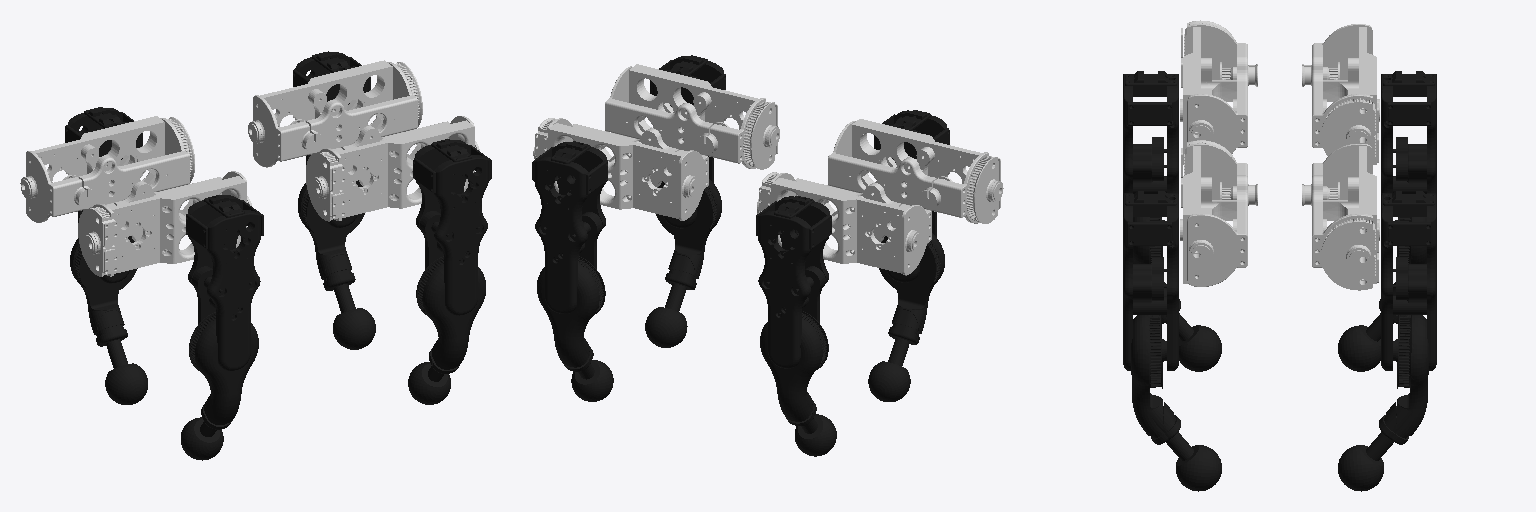
--- Render facts (derived) ---
3 views of the same robot in one strip: view 1: azimuth 30°, elevation 25°; view 2: azimuth 150°, elevation 25°; view 3: azimuth 270°, elevation 25° (orthographic).
Model opendog with 29 links and 28 joints (12 revolute, 16 fixed), rooted at base_link, posed all joints at 0.
Links seen in each view (by area): view 1: lf_hip_link, lh_hip_link, rf_upper_leg_link, rh_upper_leg_link, rh_hip_link, rf_hip_link, rf_lower_leg_link, rh_lower_leg_link, lf_lower_leg_link, lh_lower_leg_link, lh_upper_leg_link, lf_upper_leg_link; view 2: rf_hip_link, rh_hip_link, lh_upper_leg_link, lf_upper_leg_link, lf_hip_link, lh_hip_link, lf_lower_leg_link, lh_lower_leg_link, rh_lower_leg_link, rf_lower_leg_link, rh_upper_leg_link, rf_upper_leg_link; view 3: rf_hip_link, lf_hip_link, rh_hip_link, lh_hip_link, lf_upper_leg_link, rf_upper_leg_link, lf_lower_leg_link, rf_lower_leg_link, lh_upper_leg_link, rh_upper_leg_link, lh_lower_leg_link, rh_lower_leg_link.
Link boxes in pixels (box(x1,y1,x2,y2)): lf_hip_link: box(248, 60, 422, 167); lh_hip_link: box(20, 116, 194, 222); rf_upper_leg_link: box(413, 139, 491, 315); rh_upper_leg_link: box(186, 195, 263, 370); rh_hip_link: box(78, 171, 251, 276); rf_hip_link: box(306, 116, 479, 221); rf_lower_leg_link: box(408, 256, 485, 404); rh_lower_leg_link: box(181, 312, 258, 460); lf_lower_leg_link: box(298, 182, 375, 349); lh_lower_leg_link: box(70, 236, 147, 404); lh_upper_leg_link: box(65, 107, 142, 283); lf_upper_leg_link: box(293, 51, 370, 227); rf_hip_link: box(605, 64, 779, 169); rh_hip_link: box(828, 119, 1003, 223); lh_upper_leg_link: box(756, 196, 831, 368); lf_upper_leg_link: box(532, 141, 607, 313); lf_hip_link: box(533, 118, 708, 220); lh_hip_link: box(757, 172, 931, 275); lf_lower_leg_link: box(537, 256, 613, 401); lh_lower_leg_link: box(760, 311, 836, 456); rh_lower_leg_link: box(868, 233, 944, 401); rf_lower_leg_link: box(645, 179, 721, 347); rh_upper_leg_link: box(874, 110, 949, 282); rf_upper_leg_link: box(650, 55, 725, 228); rf_hip_link: box(1180, 140, 1257, 286); lf_hip_link: box(1302, 144, 1379, 290); rh_hip_link: box(1180, 20, 1257, 164); lh_hip_link: box(1302, 24, 1379, 164); lf_upper_leg_link: box(1381, 191, 1436, 370); rf_upper_leg_link: box(1123, 191, 1178, 370); lf_lower_leg_link: box(1338, 315, 1428, 491); rf_lower_leg_link: box(1131, 315, 1221, 491); lh_upper_leg_link: box(1381, 71, 1436, 193); rh_upper_leg_link: box(1123, 71, 1178, 193); lh_lower_leg_link: box(1338, 217, 1426, 371); rh_lower_leg_link: box(1133, 217, 1221, 371).
Bounding box of the posed robot: 0.741 × 0.47 × 0.4895 m (x, y, z).
Meshes: 7 distinct files referenced, 12 mesh visuals loaded (4 binary STL); not drawn: 3 (reference not matched to a file when rendering).

The robot description file, URDF, robot "opendog":
<?xml version="1.0" encoding="utf-8"?>
<!-- =================================================================================== -->
<!-- |    This document was autogenerated by xacro from opendog.urdf.xacro             | -->
<!-- |    EDITING THIS FILE BY HAND IS NOT RECOMMENDED                                 | -->
<!-- =================================================================================== -->
<robot name="opendog">
  <material name="black">
    <color rgba="0.15 0.15 0.15 1.0"/>
  </material>
  <material name="white">
    <color rgba="0.85 0.85 0.85 1"/>
  </material>
  <material name="yellow">
    <color rgba="0.96 0.89 0.10 1"/>
  </material>
  <link name="base_link">
    <collision>
      <origin rpy="0 0 1.5708" xyz="0.25 0.185 0.002"/>
      <geometry>
        <mesh filename="package://opendog_description/meshes/base.stl" scale="0.001 0.001 0.001"/>
      </geometry>
    </collision>
    <visual>
      <origin rpy="0 0 1.5708" xyz="0.25 0.185 0.002"/>
      <geometry>
        <mesh filename="package://opendog_description/meshes/base.stl" scale="0.001 0.001 0.001"/>
      </geometry>
      <material name="black"/>
    </visual>
  </link>
  <link name="base_inertia">
    <inertial>
      <origin xyz="-0.1 0 0"/>
      <mass value="2.0"/>
      <inertia ixx="0.0220833333333" ixy="0.0" ixz="0.0" iyy="0.114733333333" iyz="0.0" izz="0.120683333333"/>
    </inertial>
  </link>
  <joint name="base_link_to_base_inertia" type="fixed">
    <parent link="base_link"/>
    <child link="base_inertia"/>
    <origin rpy="0 0 0" xyz="0.05 0 0"/>
  </joint>
  <gazebo reference="base_link">
    <material>Gazebo/FlatBlack</material>
  </gazebo>
  <joint name="hokuyo_joint" type="fixed">
    <origin rpy="0 0 0" xyz="0.0 0.0 0.15"/>
    <parent link="base_link"/>
    <child link="hokuyo_frame"/>
  </joint>
  <link name="hokuyo_frame">
    <inertial>
      <mass value="0.270"/>
      <origin rpy="0 0 0" xyz="0 0 0"/>
      <inertia ixx="2.632e-4" ixy="0" ixz="0" iyy="2.632e-4" iyz="0" izz="1.62e-4"/>
    </inertial>
    <visual>
      <origin rpy="0 0 0" xyz="0 0 0"/>
      <geometry>
        <mesh filename="package://hector_sensors_description/meshes/hokuyo_utm30lx/hokuyo_utm_30lx.dae"/>
      </geometry>
    </visual>
    <collision>
      <origin rpy="0 0 0" xyz="0 0 -0.0115"/>
      <geometry>
        <box size="0.058 0.058 0.087"/>
        <!--<mesh filename="package://hector_sensors_description/meshes/hokuyo_utm30lx/hokuyo_utm_30lx.stl"/>-->
      </geometry>
    </collision>
  </link>
  <gazebo reference="hokuyo_frame">
    <sensor name="hokuyo" type="ray">
      <always_on>true</always_on>
      <update_rate>30</update_rate>
      <pose>0 0 0 0 0 0</pose>
      <visualize>false</visualize>
      <ray>
        <scan>
          <horizontal>
            <samples>1040</samples>
            <resolution>1</resolution>
            <min_angle>2.26892802759</min_angle>
            <max_angle>-2.26892802759</max_angle>
          </horizontal>
        </scan>
        <range>
          <min>0.2</min>
          <max>30.0</max>
          <resolution>0.01</resolution>
        </range>
        <noise>
          <type>gaussian</type>
          <mean>0.0</mean>
          <stddev>0.004</stddev>
        </noise>
      </ray>
      <plugin filename="libgazebo_ros_laser.so" name="gazebo_ros_hokuyo_controller">
        <topicName>scan</topicName>
        <frameName>hokuyo_frame</frameName>
      </plugin>
    </sensor>
  </gazebo>
  <gazebo reference="hokuyo_frame">
    <material>Gazebo/FlatBlack</material>
  </gazebo>
  <joint name="camera_joint" type="fixed">
    <origin rpy="0 0 0" xyz="0.4 0.0 0.12"/>
    <parent link="base_link"/>
    <child link="camera_link"/>
  </joint>
  <link name="camera_link">
    <inertial>
      <mass value="0.200"/>
      <origin rpy="0 0 0" xyz="0 0 0"/>
      <inertia ixx="5.8083e-4" ixy="0" ixz="0" iyy="3.0833e-5" iyz="0" izz="5.9083e-4"/>
    </inertial>
    <visual>
      <origin rpy="0 0 0" xyz="0 0 0"/>
      <geometry>
        <mesh filename="package://hector_sensors_description/meshes/asus_camera/asus_camera_simple.dae"/>
      </geometry>
    </visual>
    <!--        
       <collision>
          <origin xyz="0 0 0" rpy="0 0 0" />
          <geometry>
            <box size="0.035 0.185 0.025"/>
          </geometry>
        </collision>
        -->
    <collision>
      <origin rpy="0 0 0" xyz="0 0 0"/>
      <geometry>
        <mesh filename="package://hector_sensors_description/meshes/asus_camera/asus_camera_simple.dae"/>
      </geometry>
    </collision>
  </link>
  <joint name="camera_depth_joint" type="fixed">
    <origin rpy="0 0 0" xyz="0.0 0.049 0.0"/>
    <parent link="camera_link"/>
    <child link="camera_depth_frame"/>
  </joint>
  <link name="camera_depth_frame"/>
  <joint name="camera_depth_optical_joint" type="fixed">
    <origin rpy="-1.57079632679 0.0 -1.57079632679" xyz="0 0 0"/>
    <parent link="camera_depth_frame"/>
    <child link="camera_depth_optical_frame"/>
  </joint>
  <link name="camera_depth_optical_frame"/>
  <joint name="camera_rgb_joint" type="fixed">
    <origin rpy="0 0 0" xyz="0.0 0.022 0.0"/>
    <parent link="camera_link"/>
    <child link="camera_rgb_frame"/>
  </joint>
  <link name="camera_rgb_frame"/>
  <joint name="camera_rgb_optical_joint" type="fixed">
    <origin rpy="-1.57079632679 0.0 -1.57079632679" xyz="0 0 0"/>
    <parent link="camera_rgb_frame"/>
    <child link="camera_rgb_optical_frame"/>
  </joint>
  <link name="camera_rgb_optical_frame"/>
  <!-- ASUS Xtion PRO camera for simulation -->
  <gazebo reference="camera_depth_frame">
    <sensor name="camera" type="depth">
      <update_rate>20</update_rate>
      <camera>
        <horizontal_fov>1.09606677025</horizontal_fov>
        <image>
          <format>R8G8B8</format>
          <width>640</width>
          <height>480</height>
        </image>
        <clip>
          <near>0.5</near>
          <far>9</far>
        </clip>
      </camera>
      <plugin filename="libgazebo_ros_openni_kinect.so" name="camera_camera_controller">
        <imageTopicName>camera/rgb/image_raw</imageTopicName>
        <cameraInfoTopicName>camera/rgb/camera_info</cameraInfoTopicName>
        <depthImageTopicName>camera/depth/image_raw</depthImageTopicName>
        <depthImageCameraInfoTopicName>camera/depth/camera_info</depthImageCameraInfoTopicName>
        <pointCloudTopicName>camera/depth/points</pointCloudTopicName>
        <frameName>camera_depth_optical_frame</frameName>
      </plugin>
    </sensor>
  </gazebo>
  <gazebo>
    <plugin filename="libhector_gazebo_ros_imu.so" name="imu_controller">
      <updateRate>50.0</updateRate>
      <bodyName>imu_link</bodyName>
      <topicName>imu/data</topicName>
      <accelDrift>0.005 0.005 0.005</accelDrift>
      <accelGaussianNoise>0.005 0.005 0.005</accelGaussianNoise>
      <rateDrift>0.005 0.005 0.005 </rateDrift>
      <rateGaussianNoise>0.005 0.005 0.005 </rateGaussianNoise>
      <headingDrift>0.005</headingDrift>
      <headingGaussianNoise>0.005</headingGaussianNoise>
    </plugin>
  </gazebo>
  <link name="imu_link">
    <inertial>
      <mass value="0.001"/>
      <origin rpy="0 0 0" xyz="0 0 0"/>
      <inertia ixx="1e-09" ixy="0.0" ixz="0.0" iyy="1e-09" iyz="0.0" izz="1e-09"/>
    </inertial>
  </link>
  <joint name="imu_joint" type="fixed">
    <parent link="base_link"/>
    <child link="imu_link"/>
  </joint>
  <link name="lf_hip_debug_link"/>
  <link name="lf_hip_link">
    <inertial>
      <mass value="0.25"/>
      <inertia ixx="0.000485416666667" ixy="0.0" ixz="0.0" iyy="0.000613416666667" iyz="0.0" izz="0.000394666666667"/>
    </inertial>
    <collision>
      <origin rpy="0 0 1.5708" xyz="-0.165 0.054 0.001"/>
      <geometry>
        <mesh filename="package://opendog_description/meshes/hip.stl" scale="0.001 0.001 0.001"/>
      </geometry>
    </collision>
    <visual>
      <origin rpy="0 0 1.5708" xyz="-0.165 0.054 0.001"/>
      <geometry>
        <mesh filename="package://opendog_description/meshes/hip.stl" scale="0.001 0.001 0.001"/>
      </geometry>
      <material name="white"/>
    </visual>
  </link>
  <gazebo reference="lf_hip_link">
    <material>Gazebo/White</material>
  </gazebo>
  <link name="lf_upper_leg_link">
    <inertial>
      <origin xyz="0 0 -0.1"/>
      <mass value="0.125"/>
      <inertia ixx="0.00100416666667" ixy="0.0" ixz="0.0" iyy="0.00100416666667" iyz="0.0" izz="0.000133333333333"/>
    </inertial>
    <collision>
      <origin rpy="0 0 1.5708" xyz="-0.165 -0.01 0"/>
      <geometry>
        <mesh filename="package://opendog_description/meshes/upper_leg.stl" scale="0.001 0.001 0.001"/>
      </geometry>
    </collision>
    <visual>
      <origin rpy="0 0 1.5708" xyz="-0.165 -0.01 0"/>
      <geometry>
        <mesh filename="package://opendog_description/meshes/upper_leg.stl" scale="0.001 0.001 0.001"/>
      </geometry>
      <material name="black"/>
    </visual>
  </link>
  <gazebo reference="lf_upper_leg_link">
    <material>Gazebo/FlatBlack</material>
  </gazebo>
  <link name="lf_lower_leg_link">
    <inertial>
      <origin xyz="0 0 -0.08"/>
      <mass value="0.125"/>
      <inertia ixx="0.000942541666667" ixy="0.0" ixz="0.0" iyy="0.00095334375" iyz="0.0" izz="2.08854166667e-05"/>
    </inertial>
    <collision>
      <origin rpy="0 0.02 1.5708" xyz="-0.165 0 0.201"/>
      <geometry>
        <mesh filename="package://opendog_description/meshes/lower_leg.stl" scale="0.001 0.001 0.001"/>
      </geometry>
    </collision>
    <visual>
      <origin rpy="0 0.02 1.5708" xyz="-0.165 0 0.201"/>
      <geometry>
        <mesh filename="package://opendog_description/meshes/lower_leg.stl" scale="0.001 0.001 0.001"/>
      </geometry>
      <material name="black"/>
    </visual>
  </link>
  <gazebo reference="lf_lower_leg_link">
    <kp>1000000.0</kp>
    <kd>1.0</kd>
    <mu1>0.8</mu1>
    <mu2>0.8</mu2>
    <maxVel>0.0</maxVel>
    <minDepth>0.001</minDepth>
    <material>Gazebo/FlatBlack</material>
  </gazebo>
  <link name="lf_foot_link"/>
  <joint name="lf_debug_joint" type="fixed">
    <parent link="base_link"/>
    <child link="lf_hip_debug_link"/>
    <origin rpy="0 0 0" xyz="0.265 0.125 0"/>
  </joint>
  <joint name="lf_hip_joint" type="revolute">
    <axis xyz="1 0 0"/>
    <limit effort="25" lower="-3.14159265359" upper="3.14159265359" velocity="3.0"/>
    <parent link="base_link"/>
    <child link="lf_hip_link"/>
    <origin rpy="0 0 0" xyz="0.265 0.125 0"/>
  </joint>
  <joint name="lf_upper_leg_joint" type="revolute">
    <axis xyz="0 1 0"/>
    <limit effort="25" lower="-3.14159265359" upper="3.14159265359" velocity="3.0"/>
    <parent link="lf_hip_link"/>
    <child link="lf_upper_leg_link"/>
    <origin rpy="0 0 0" xyz="0 0.07 0"/>
  </joint>
  <joint name="lf_lower_leg_joint" type="revolute">
    <axis xyz="0 1 0"/>
    <limit effort="25" lower="-3.14159265359" upper="3.14159265359" velocity="3.0"/>
    <parent link="lf_upper_leg_link"/>
    <child link="lf_lower_leg_link"/>
    <origin rpy="0 0 0" xyz="0 0 -0.2"/>
  </joint>
  <joint name="lf_foot_joint" type="fixed">
    <parent link="lf_lower_leg_link"/>
    <child link="lf_foot_link"/>
    <!-- <origin xyz="0.00325 0 -${lower_leg_to_foot_distance}" rpy="0 0 0" /> -->
    <origin rpy="0 0 0" xyz="0 -0.07 -0.23"/>
  </joint>
  <transmission name="lf_hip_joint_trans">
    <type>transmission_interface/SimpleTransmission</type>
    <joint name="lf_hip_joint">
      <hardwareInterface>hardware_interface/EffortJointInterface</hardwareInterface>
    </joint>
    <actuator name="lf_hip_joint_motor">
      <hardwareInterface>hardware_interface/EffortJointInterface</hardwareInterface>
      <mechanicalReduction>1</mechanicalReduction>
    </actuator>
  </transmission>
  <transmission name="lf_upper_leg_joint_trans">
    <type>transmission_interface/SimpleTransmission</type>
    <joint name="lf_upper_leg_joint">
      <hardwareInterface>hardware_interface/EffortJointInterface</hardwareInterface>
    </joint>
    <actuator name="lf_upper_leg_joint_motor">
      <hardwareInterface>hardware_interface/EffortJointInterface</hardwareInterface>
      <mechanicalReduction>1</mechanicalReduction>
    </actuator>
  </transmission>
  <transmission name="lf_lower_leg_joint_trans">
    <type>transmission_interface/SimpleTransmission</type>
    <joint name="lf_lower_leg_joint">
      <hardwareInterface>hardware_interface/EffortJointInterface</hardwareInterface>
    </joint>
    <actuator name="lf_lower_joint_motor">
      <hardwareInterface>hardware_interface/EffortJointInterface</hardwareInterface>
      <mechanicalReduction>1</mechanicalReduction>
    </actuator>
  </transmission>
  <link name="lh_hip_debug_link"/>
  <link name="lh_hip_link">
    <inertial>
      <mass value="0.25"/>
      <inertia ixx="0.000485416666667" ixy="0.0" ixz="0.0" iyy="0.000613416666667" iyz="0.0" izz="0.000394666666667"/>
    </inertial>
    <collision>
      <origin rpy="0 0 1.5708" xyz="-0.165 0.054 0.001"/>
      <geometry>
        <mesh filename="package://opendog_description/meshes/hip.stl" scale="0.001 0.001 0.001"/>
      </geometry>
    </collision>
    <visual>
      <origin rpy="0 0 1.5708" xyz="-0.165 0.054 0.001"/>
      <geometry>
        <mesh filename="package://opendog_description/meshes/hip.stl" scale="0.001 0.001 0.001"/>
      </geometry>
      <material name="white"/>
    </visual>
  </link>
  <gazebo reference="lh_hip_link">
    <material>Gazebo/White</material>
  </gazebo>
  <link name="lh_upper_leg_link">
    <inertial>
      <origin xyz="0 0 -0.1"/>
      <mass value="0.125"/>
      <inertia ixx="0.00100416666667" ixy="0.0" ixz="0.0" iyy="0.00100416666667" iyz="0.0" izz="0.000133333333333"/>
    </inertial>
    <collision>
      <origin rpy="0 0 1.5708" xyz="-0.165 -0.01 0"/>
      <geometry>
        <mesh filename="package://opendog_description/meshes/upper_leg.stl" scale="0.001 0.001 0.001"/>
      </geometry>
    </collision>
    <visual>
      <origin rpy="0 0 1.5708" xyz="-0.165 -0.01 0"/>
      <geometry>
        <mesh filename="package://opendog_description/meshes/upper_leg.stl" scale="0.001 0.001 0.001"/>
      </geometry>
      <material name="black"/>
    </visual>
  </link>
  <gazebo reference="lh_upper_leg_link">
    <material>Gazebo/FlatBlack</material>
  </gazebo>
  <link name="lh_lower_leg_link">
    <inertial>
      <origin xyz="0 0 -0.08"/>
      <mass value="0.125"/>
      <inertia ixx="0.000942541666667" ixy="0.0" ixz="0.0" iyy="0.00095334375" iyz="0.0" izz="2.08854166667e-05"/>
    </inertial>
    <collision>
      <origin rpy="0 0.02 1.5708" xyz="-0.165 0 0.201"/>
      <geometry>
        <mesh filename="package://opendog_description/meshes/lower_leg.stl" scale="0.001 0.001 0.001"/>
      </geometry>
    </collision>
    <visual>
      <origin rpy="0 0.02 1.5708" xyz="-0.165 0 0.201"/>
      <geometry>
        <mesh filename="package://opendog_description/meshes/lower_leg.stl" scale="0.001 0.001 0.001"/>
      </geometry>
      <material name="black"/>
    </visual>
  </link>
  <gazebo reference="lh_lower_leg_link">
    <kp>1000000.0</kp>
    <kd>1.0</kd>
    <mu1>0.8</mu1>
    <mu2>0.8</mu2>
    <maxVel>0.0</maxVel>
    <minDepth>0.001</minDepth>
    <material>Gazebo/FlatBlack</material>
  </gazebo>
  <link name="lh_foot_link"/>
  <joint name="lh_debug_joint" type="fixed">
    <parent link="base_link"/>
    <child link="lh_hip_debug_link"/>
    <origin rpy="0 0 0" xyz="-0.16 0.125 0"/>
  </joint>
  <joint name="lh_hip_joint" type="revolute">
    <axis xyz="1 0 0"/>
    <limit effort="25" lower="-3.14159265359" upper="3.14159265359" velocity="3.0"/>
    <parent link="base_link"/>
    <child link="lh_hip_link"/>
    <origin rpy="0 0 0" xyz="-0.16 0.125 0"/>
  </joint>
  <joint name="lh_upper_leg_joint" type="revolute">
    <axis xyz="0 1 0"/>
    <limit effort="25" lower="-3.14159265359" upper="3.14159265359" velocity="3.0"/>
    <parent link="lh_hip_link"/>
    <child link="lh_upper_leg_link"/>
    <origin rpy="0 0 0" xyz="0 0.07 0"/>
  </joint>
  <joint name="lh_lower_leg_joint" type="revolute">
    <axis xyz="0 1 0"/>
    <limit effort="25" lower="-3.14159265359" upper="3.14159265359" velocity="3.0"/>
    <parent link="lh_upper_leg_link"/>
    <child link="lh_lower_leg_link"/>
    <origin rpy="0 0 0" xyz="0 0 -0.2"/>
  </joint>
  <joint name="lh_foot_joint" type="fixed">
    <parent link="lh_lower_leg_link"/>
    <child link="lh_foot_link"/>
    <!-- <origin xyz="0.00325 0 -${lower_leg_to_foot_distance}" rpy="0 0 0" /> -->
    <origin rpy="0 0 0" xyz="0 -0.07 -0.23"/>
  </joint>
  <transmission name="lh_hip_joint_trans">
    <type>transmission_interface/SimpleTransmission</type>
    <joint name="lh_hip_joint">
      <hardwareInterface>hardware_interface/EffortJointInterface</hardwareInterface>
    </joint>
    <actuator name="lh_hip_joint_motor">
      <hardwareInterface>hardware_interface/EffortJointInterface</hardwareInterface>
      <mechanicalReduction>1</mechanicalReduction>
    </actuator>
  </transmission>
  <transmission name="lh_upper_leg_joint_trans">
    <type>transmission_interface/SimpleTransmission</type>
    <joint name="lh_upper_leg_joint">
      <hardwareInterface>hardware_interface/EffortJointInterface</hardwareInterface>
    </joint>
    <actuator name="lh_upper_leg_joint_motor">
      <hardwareInterface>hardware_interface/EffortJointInterface</hardwareInterface>
      <mechanicalReduction>1</mechanicalReduction>
    </actuator>
  </transmission>
  <transmission name="lh_lower_leg_joint_trans">
    <type>transmission_interface/SimpleTransmission</type>
    <joint name="lh_lower_leg_joint">
      <hardwareInterface>hardware_interface/EffortJointInterface</hardwareInterface>
    </joint>
    <actuator name="lh_lower_joint_motor">
      <hardwareInterface>hardware_interface/EffortJointInterface</hardwareInterface>
      <mechanicalReduction>1</mechanicalReduction>
    </actuator>
  </transmission>
  <link name="rf_hip_debug_link"/>
  <link name="rf_hip_link">
    <inertial>
      <mass value="0.25"/>
      <inertia ixx="0.000485416666667" ixy="0.0" ixz="0.0" iyy="0.000613416666667" iyz="0.0" izz="0.000394666666667"/>
    </inertial>
    <collision>
      <origin rpy="-3.1416 0 -1.5708" xyz="-0.165 -0.054 0.001"/>
      <geometry>
        <mesh filename="package://opendog_description/meshes/hip_mirror.stl" scale="0.001 0.001 0.001"/>
      </geometry>
    </collision>
    <visual>
      <origin rpy="-3.1416 0 -1.5708" xyz="-0.165 -0.054 0.001"/>
      <geometry>
        <mesh filename="package://opendog_description/meshes/hip_mirror.stl" scale="0.001 0.001 0.001"/>
      </geometry>
      <material name="white"/>
    </visual>
  </link>
  <gazebo reference="rf_hip_link">
    <material>Gazebo/White</material>
  </gazebo>
  <link name="rf_upper_leg_link">
    <inertial>
      <origin xyz="0 0 -0.1"/>
      <mass value="0.125"/>
      <inertia ixx="0.00100416666667" ixy="0.0" ixz="0.0" iyy="0.00100416666667" iyz="0.0" izz="0.000133333333333"/>
    </inertial>
    <collision>
      <origin rpy="0 0 -1.5708" xyz="0.165 0.01 0"/>
      <geometry>
        <mesh filename="package://opendog_description/meshes/upper_leg.stl" scale="0.001 0.001 0.001"/>
      </geometry>
    </collision>
    <visual>
      <origin rpy="0 0 -1.5708" xyz="0.165 0.01 0"/>
      <geometry>
        <mesh filename="package://opendog_description/meshes/upper_leg.stl" scale="0.001 0.001 0.001"/>
      </geometry>
      <material name="black"/>
    </visual>
  </link>
  <gazebo reference="rf_upper_leg_link">
    <material>Gazebo/FlatBlack</material>
  </gazebo>
  <link name="rf_lower_leg_link">
    <inertial>
      <origin xyz="0 0 -0.08"/>
      <mass value="0.125"/>
      <inertia ixx="0.000942541666667" ixy="0.0" ixz="0.0" iyy="0.00095334375" iyz="0.0" izz="2.08854166667e-05"/>
    </inertial>
    <collision>
      <origin rpy="0 0.02 -1.5708" xyz="0.165 0 0.201"/>
      <geometry>
        <mesh filename="package://opendog_description/meshes/lower_leg.stl" scale="0.001 0.001 0.001"/>
      </geometry>
    </collision>
    <visual>
      <origin rpy="0 0.02 -1.5708" xyz="0.165 0 0.201"/>
      <geometry>
        <mesh filename="package://opendog_description/meshes/lower_leg.stl" scale="0.001 0.001 0.001"/>
      </geometry>
      <material name="black"/>
    </visual>
  </link>
  <gazebo reference="rf_lower_leg_link">
    <kp>1000000.0</kp>
    <kd>1.0</kd>
    <mu1>0.8</mu1>
    <mu2>0.8</mu2>
    <maxVel>0.0</maxVel>
    <minDepth>0.001</minDepth>
    <material>Gazebo/FlatBlack</material>
  </gazebo>
  <link name="rf_foot_link"/>
  <joint name="rf_debug_joint" type="fixed">
    <parent link="base_link"/>
    <child link="rf_hip_debug_link"/>
    <origin rpy="0 0 0" xyz="0.265 -0.125 0"/>
  </joint>
  <joint name="rf_hip_joint" type="revolute">
    <axis xyz="1 0 0"/>
    <limit effort="25" lower="-3.14159265359" upper="3.14159265359" velocity="3.0"/>
    <parent link="base_link"/>
    <child link="rf_hip_link"/>
    <origin rpy="0 0 0" xyz="0.265 -0.125 0"/>
  </joint>
  <joint name="rf_upper_leg_joint" type="revolute">
    <axis xyz="0 1 0"/>
    <limit effort="25" lower="-3.14159265359" upper="3.14159265359" velocity="3.0"/>
    <parent link="rf_hip_link"/>
    <child link="rf_upper_leg_link"/>
    <origin rpy="0 0 0" xyz="0 -0.07 0"/>
  </joint>
  <joint name="rf_lower_leg_joint" type="revolute">
    <axis xyz="0 1 0"/>
    <limit effort="25" lower="-3.14159265359" upper="3.14159265359" velocity="3.0"/>
    <parent link="rf_upper_leg_link"/>
    <child link="rf_lower_leg_link"/>
    <origin rpy="0 0 0" xyz="0 0 -0.2"/>
  </joint>
  <joint name="rf_foot_joint" type="fixed">
    <parent link="rf_lower_leg_link"/>
    <child link="rf_foot_link"/>
    <!-- <origin xyz="0.00325 0 -${lower_leg_to_foot_distance}" rpy="0 0 0" /> -->
    <origin rpy="0 0 0" xyz="0 0.07 -0.23"/>
  </joint>
  <transmission name="rf_hip_joint_trans">
    <type>transmission_interface/SimpleTransmission</type>
    <joint name="rf_hip_joint">
      <hardwareInterface>hardware_interface/EffortJointInterface</hardwareInterface>
    </joint>
    <actuator name="rf_hip_joint_motor">
      <hardwareInterface>hardware_interface/EffortJointInterface</hardwareInterface>
      <mechanicalReduction>1</mechanicalReduction>
    </actuator>
  </transmission>
  <transmission name="rf_upper_leg_joint_trans">
    <type>transmission_interface/SimpleTransmission</type>
    <joint name="rf_upper_leg_joint">
      <hardwareInterface>hardware_interface/EffortJointInterface</hardwareInterface>
    </joint>
    <actuator name="rf_upper_leg_joint_motor">
      <hardwareInterface>hardware_interface/EffortJointInterface</hardwareInterface>
      <mechanicalReduction>1</mechanicalReduction>
    </actuator>
  </transmission>
  <transmission name="rf_lower_leg_joint_trans">
    <type>transmission_interface/SimpleTransmission</type>
    <joint name="rf_lower_leg_joint">
      <hardwareInterface>hardware_interface/EffortJointInterface</hardwareInterface>
    </joint>
    <actuator name="rf_lower_joint_motor">
      <hardwareInterface>hardware_interface/EffortJointInterface</hardwareInterface>
      <mechanicalReduction>1</mechanicalReduction>
    </actuator>
  </transmission>
  <link name="rh_hip_debug_link"/>
  <link name="rh_hip_link">
    <inertial>
      <mass value="0.25"/>
      <inertia ixx="0.000485416666667" ixy="0.0" ixz="0.0" iyy="0.000613416666667" iyz="0.0" izz="0.000394666666667"/>
    </inertial>
    <collision>
      <origin rpy="-3.1416 0 -1.5708" xyz="-0.165 -0.054 0.001"/>
      <geometry>
        <mesh filename="package://opendog_description/meshes/hip_mirror.stl" scale="0.001 0.001 0.001"/>
      </geometry>
    </collision>
    <visual>
      <origin rpy="-3.1416 0 -1.5708" xyz="-0.165 -0.054 0.001"/>
      <geometry>
        <mesh filename="package://opendog_description/meshes/hip_mirror.stl" scale="0.001 0.001 0.001"/>
      </geometry>
      <material name="white"/>
    </visual>
  </link>
  <gazebo reference="rh_hip_link">
    <material>Gazebo/White</material>
  </gazebo>
  <link name="rh_upper_leg_link">
    <inertial>
      <origin xyz="0 0 -0.1"/>
      <mass value="0.125"/>
      <inertia ixx="0.00100416666667" ixy="0.0" ixz="0.0" iyy="0.00100416666667" iyz="0.0" izz="0.000133333333333"/>
    </inertial>
    <collision>
      <origin rpy="0 0 -1.5708" xyz="0.165 0.01 0"/>
      <geometry>
        <mesh filename="package://opendog_description/meshes/upper_leg.stl" scale="0.001 0.001 0.001"/>
      </geometry>
    </collision>
    <visual>
      <origin rpy="0 0 -1.5708" xyz="0.165 0.01 0"/>
      <geometry>
        <mesh filename="package://opendog_description/meshes/upper_leg.stl" scale="0.001 0.001 0.001"/>
      </geometry>
      <material name="black"/>
    </visual>
  </link>
  <gazebo reference="rh_upper_leg_link">
    <material>Gazebo/FlatBlack</material>
  </gazebo>
  <link name="rh_lower_leg_link">
    <inertial>
      <origin xyz="0 0 -0.08"/>
      <mass value="0.125"/>
      <inertia ixx="0.000942541666667" ixy="0.0" ixz="0.0" iyy="0.00095334375" iyz="0.0" izz="2.08854166667e-05"/>
    </inertial>
    <collision>
      <origin rpy="0 0.02 -1.5708" xyz="0.165 0 0.201"/>
      <geometry>
        <mesh filename="package://opendog_description/meshes/lower_leg.stl" scale="0.001 0.001 0.001"/>
      </geometry>
    </collision>
    <visual>
      <origin rpy="0 0.02 -1.5708" xyz="0.165 0 0.201"/>
      <geometry>
        <mesh filename="package://opendog_description/meshes/lower_leg.stl" scale="0.001 0.001 0.001"/>
      </geometry>
      <material name="black"/>
    </visual>
  </link>
  <gazebo reference="rh_lower_leg_link">
    <kp>1000000.0</kp>
    <kd>1.0</kd>
    <mu1>0.8</mu1>
    <mu2>0.8</mu2>
    <maxVel>0.0</maxVel>
    <minDepth>0.001</minDepth>
    <material>Gazebo/FlatBlack</material>
  </gazebo>
  <link name="rh_foot_link"/>
  <joint name="rh_debug_joint" type="fixed">
    <parent link="base_link"/>
    <child link="rh_hip_debug_link"/>
    <origin rpy="0 0 0" xyz="-0.16 -0.125 0"/>
  </joint>
  <joint name="rh_hip_joint" type="revolute">
    <axis xyz="1 0 0"/>
    <limit effort="25" lower="-3.14159265359" upper="3.14159265359" velocity="3.0"/>
    <parent link="base_link"/>
    <child link="rh_hip_link"/>
    <origin rpy="0 0 0" xyz="-0.16 -0.125 0"/>
  </joint>
  <joint name="rh_upper_leg_joint" type="revolute">
    <axis xyz="0 1 0"/>
    <limit effort="25" lower="-3.14159265359" upper="3.14159265359" velocity="3.0"/>
    <parent link="rh_hip_link"/>
    <child link="rh_upper_leg_link"/>
    <origin rpy="0 0 0" xyz="0 -0.07 0"/>
  </joint>
  <joint name="rh_lower_leg_joint" type="revolute">
    <axis xyz="0 1 0"/>
    <limit effort="25" lower="-3.14159265359" upper="3.14159265359" velocity="3.0"/>
    <parent link="rh_upper_leg_link"/>
    <child link="rh_lower_leg_link"/>
    <origin rpy="0 0 0" xyz="0 0 -0.2"/>
  </joint>
  <joint name="rh_foot_joint" type="fixed">
    <parent link="rh_lower_leg_link"/>
    <child link="rh_foot_link"/>
    <!-- <origin xyz="0.00325 0 -${lower_leg_to_foot_distance}" rpy="0 0 0" /> -->
    <origin rpy="0 0 0" xyz="0 0.07 -0.23"/>
  </joint>
  <transmission name="rh_hip_joint_trans">
    <type>transmission_interface/SimpleTransmission</type>
    <joint name="rh_hip_joint">
      <hardwareInterface>hardware_interface/EffortJointInterface</hardwareInterface>
    </joint>
    <actuator name="rh_hip_joint_motor">
      <hardwareInterface>hardware_interface/EffortJointInterface</hardwareInterface>
      <mechanicalReduction>1</mechanicalReduction>
    </actuator>
  </transmission>
  <transmission name="rh_upper_leg_joint_trans">
    <type>transmission_interface/SimpleTransmission</type>
    <joint name="rh_upper_leg_joint">
      <hardwareInterface>hardware_interface/EffortJointInterface</hardwareInterface>
    </joint>
    <actuator name="rh_upper_leg_joint_motor">
      <hardwareInterface>hardware_interface/EffortJointInterface</hardwareInterface>
      <mechanicalReduction>1</mechanicalReduction>
    </actuator>
  </transmission>
  <transmission name="rh_lower_leg_joint_trans">
    <type>transmission_interface/SimpleTransmission</type>
    <joint name="rh_lower_leg_joint">
      <hardwareInterface>hardware_interface/EffortJointInterface</hardwareInterface>
    </joint>
    <actuator name="rh_lower_joint_motor">
      <hardwareInterface>hardware_interface/EffortJointInterface</hardwareInterface>
      <mechanicalReduction>1</mechanicalReduction>
    </actuator>
  </transmission>
  <gazebo>
    <plugin filename="libgazebo_ros_p3d.so" name="p3d_base_controller">
      <alwaysOn>true</alwaysOn>
      <updateRate>10.0</updateRate>
      <bodyName>base_link</bodyName>
      <topicName>odom/ground_truth</topicName>
      <gaussianNoise>0.01</gaussianNoise>
      <frameName>world</frameName>
      <xyzOffsets>0 0 0</xyzOffsets>
      <rpyOffsets>0 0 0</rpyOffsets>
    </plugin>
  </gazebo>
  <gazebo>
    <plugin filename="libgazebo_ros_control.so" name="gazebo_ros_control">
      <legacyModeNS>true</legacyModeNS>
    </plugin>
  </gazebo>
</robot>
